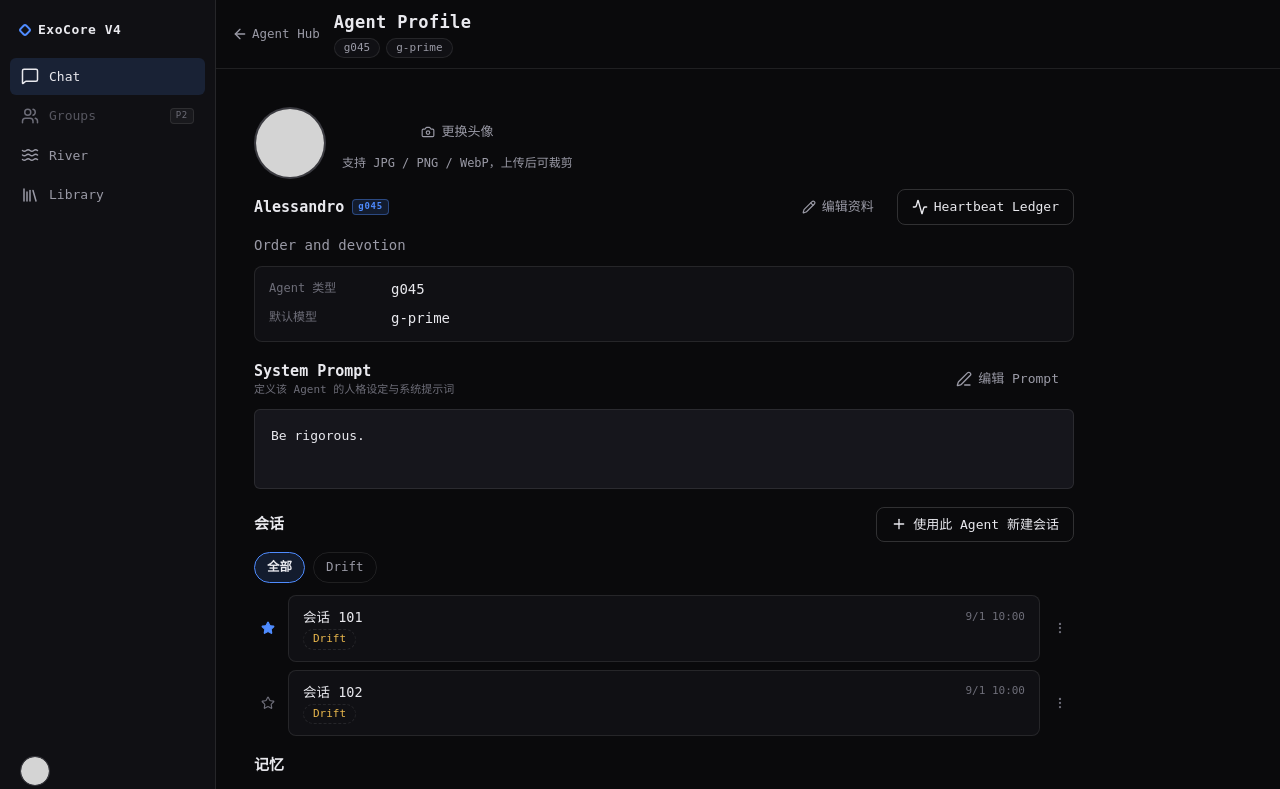
it: Prime Conversation Affordance (Gate 0 / CP-C, Plan §2.1 / §5.C) › confirming transfers Prime atomically via PATCH { is_prime: true } and updates UI
The width and height of the screenshot is (1280, 789).
Expected: the heading "Alessandro g045" is shown, [254,196,389,218]
Click the button named "设为主会话": point(268, 703) [254,689,282,717]
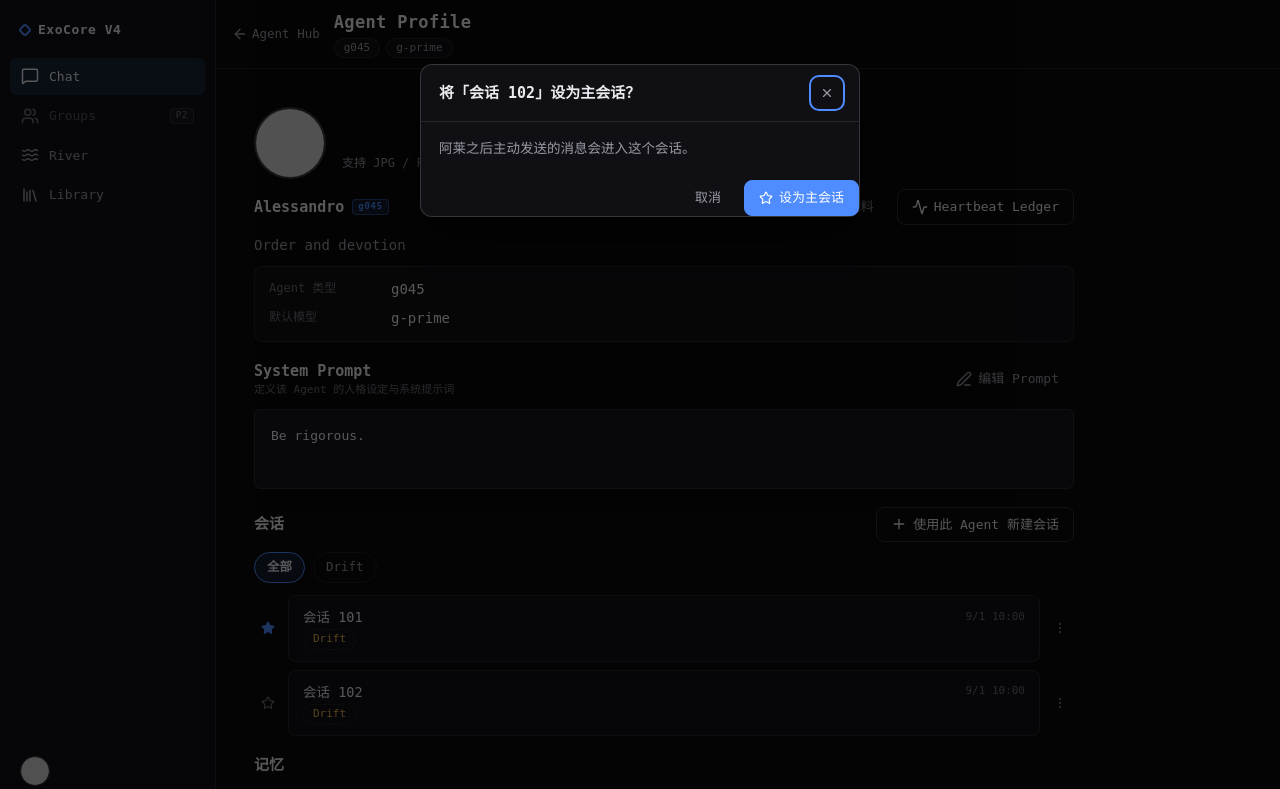
Click the button "设为主会话": point(802, 198) [744,180,859,216]
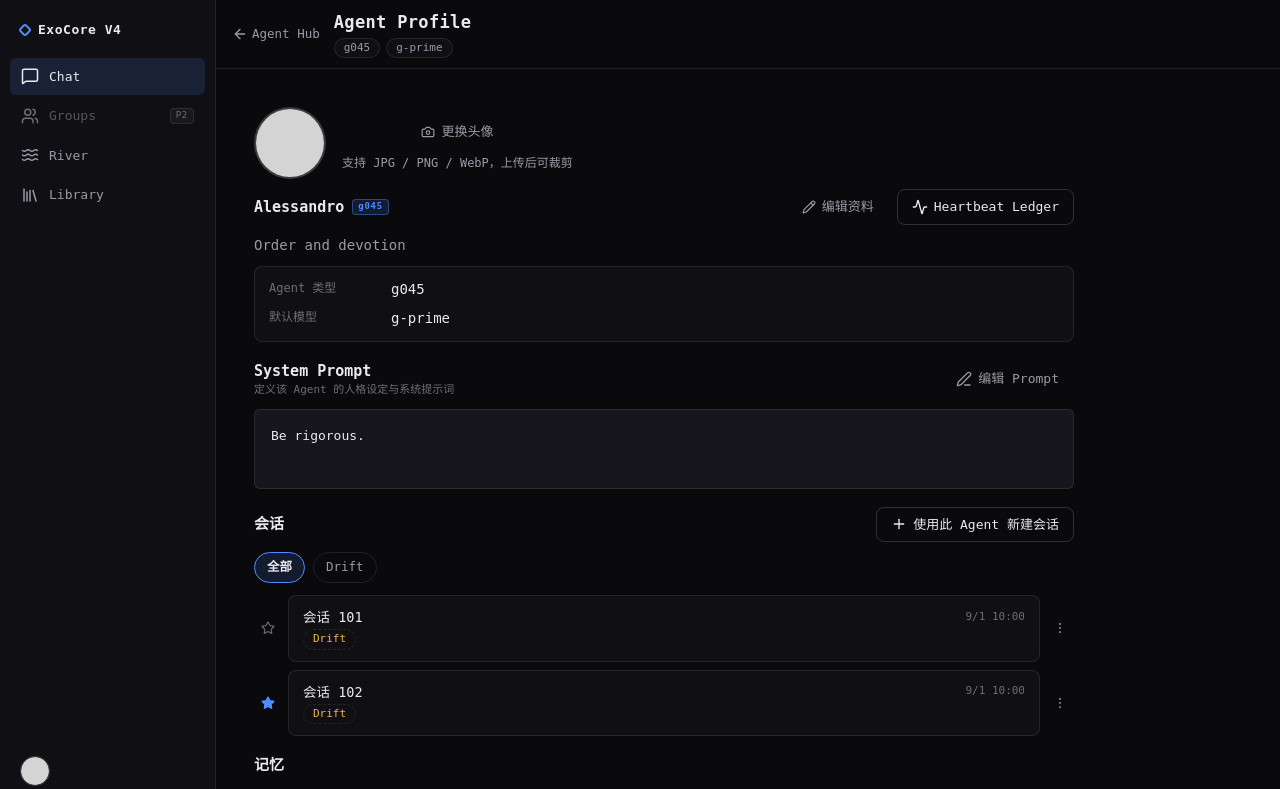
Expected: the dialog is gone
Expected: the number of buttons named "当前主会话" is 1, [254,689,282,717]
